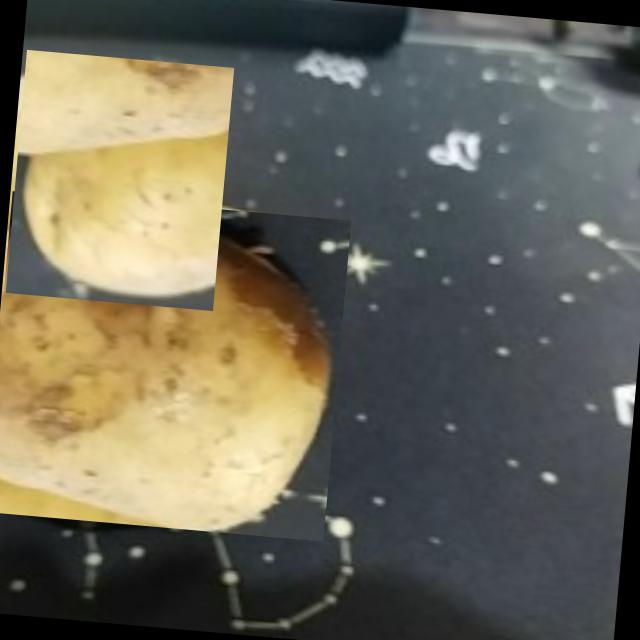Damaged potato: (0, 191, 351, 541)
Potato: (5, 49, 234, 310)
